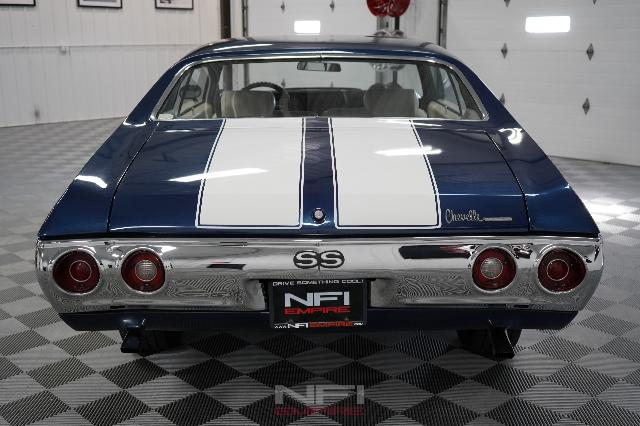chevelle-1972: (34, 34, 604, 357)
